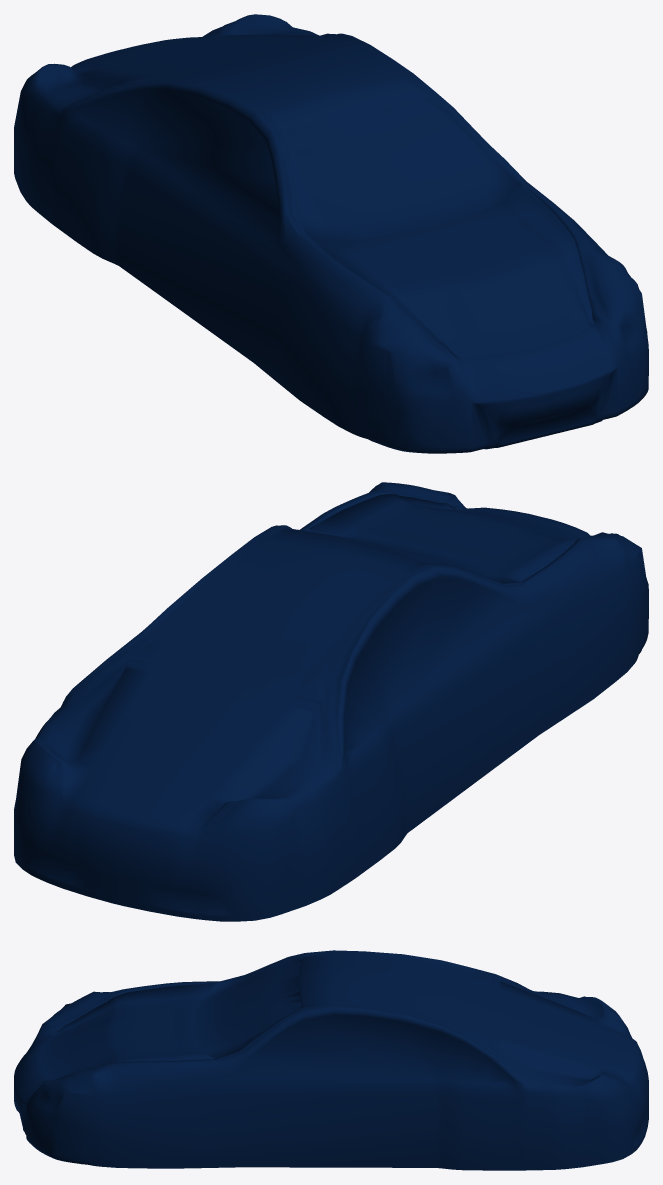
Rendered from pojazd1_low.FBX.
3 views of the same model, one above another, from view 1: azimuth 30°, elevation 25°; view 2: azimuth 150°, elevation 25°; view 3: azimuth 270°, elevation 25° (orthographic). The views are drawn at different scales.
Parts seen in each view (by area): view 1: low; view 2: low; view 3: low.
Part boxes in pixels (x1,y1,x2,y2): low: (14,14,648,453); low: (14,482,648,921); low: (14,950,648,1170).
Size of the model in its own units: 19.08 by 11.61 by 47.5.
